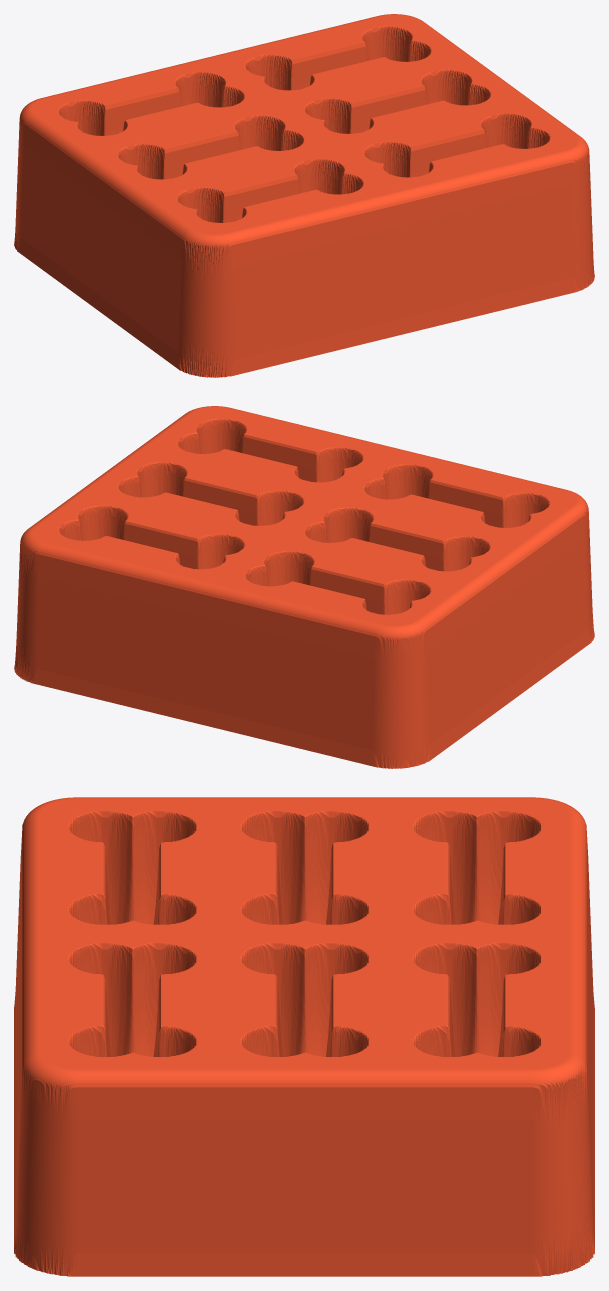
The model's file is mold.glb.
3 renders of one model, top to bottom at view 1: azimuth 30°, elevation 25°; view 2: azimuth 150°, elevation 25°; view 3: azimuth 270°, elevation 25°, orthographic. The views are drawn at different scales.
Parts seen in each view (by area): view 1: geometry_0; view 2: geometry_0; view 3: geometry_0.
Part boxes in pixels (x1,y1,x2,y2): geometry_0: (14, 14, 594, 377); geometry_0: (14, 406, 594, 768); geometry_0: (14, 797, 594, 1276).
Size of the model in its own units: 0.0996 by 0.0314 by 0.0839.
